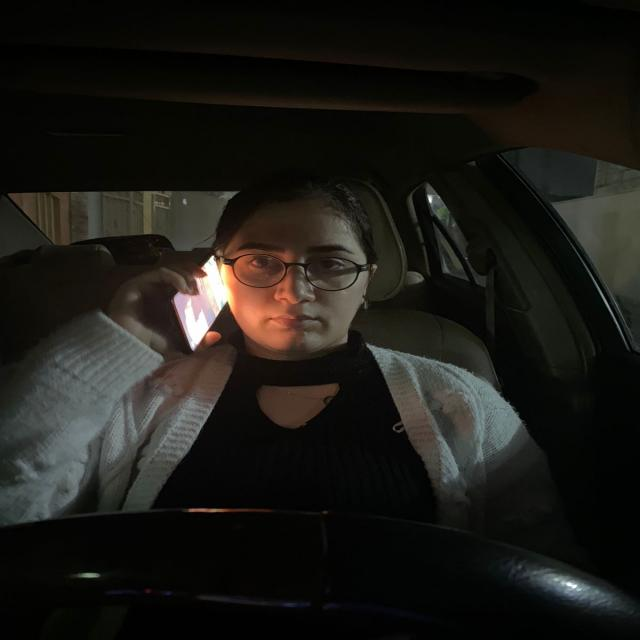mobile: (178, 239, 232, 349)
person: (226, 184, 372, 349)
